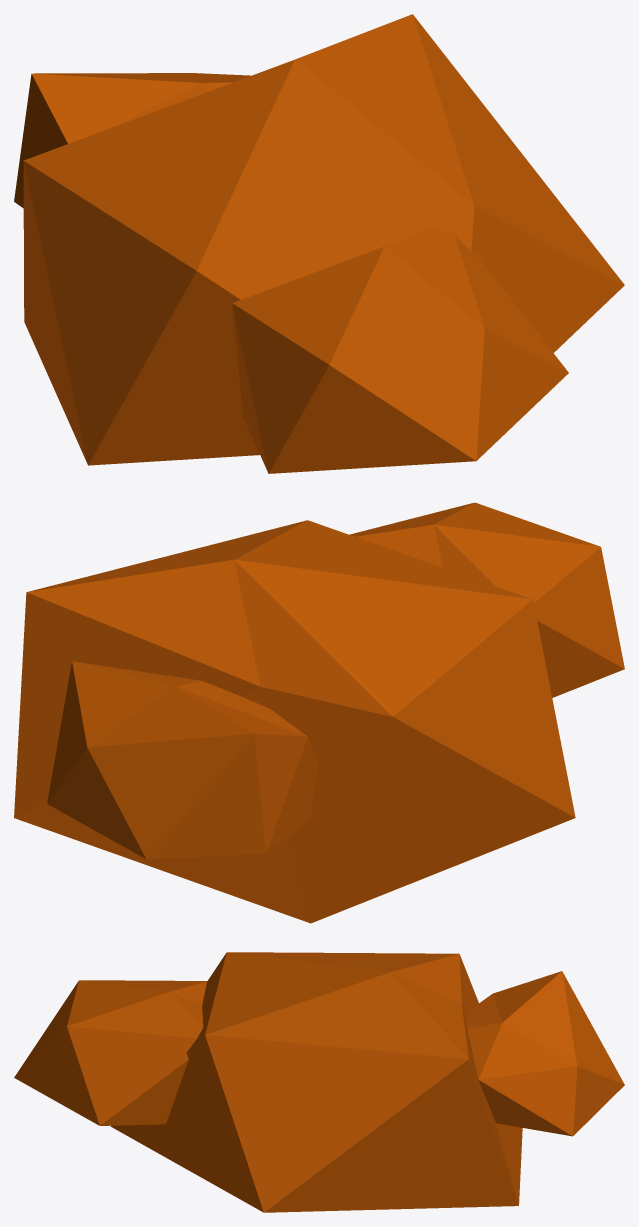
The model's file is RockMid1.glb.
3 views of the same model, one above another, from view 1: azimuth 30°, elevation 25°; view 2: azimuth 150°, elevation 25°; view 3: azimuth 270°, elevation 25° (orthographic). The views are drawn at different scales.
Visible parts, largest first — view 1: RockMid1; view 2: RockMid1; view 3: RockMid1.
Boxes of the visible parts, left/top/right/bottom form: RockMid1: left=14, top=14, right=624, bottom=473; RockMid1: left=14, top=502, right=624, bottom=923; RockMid1: left=14, top=952, right=624, bottom=1212.
Bounding box in the file's own units: 1.1 × 0.567 × 1.53.
